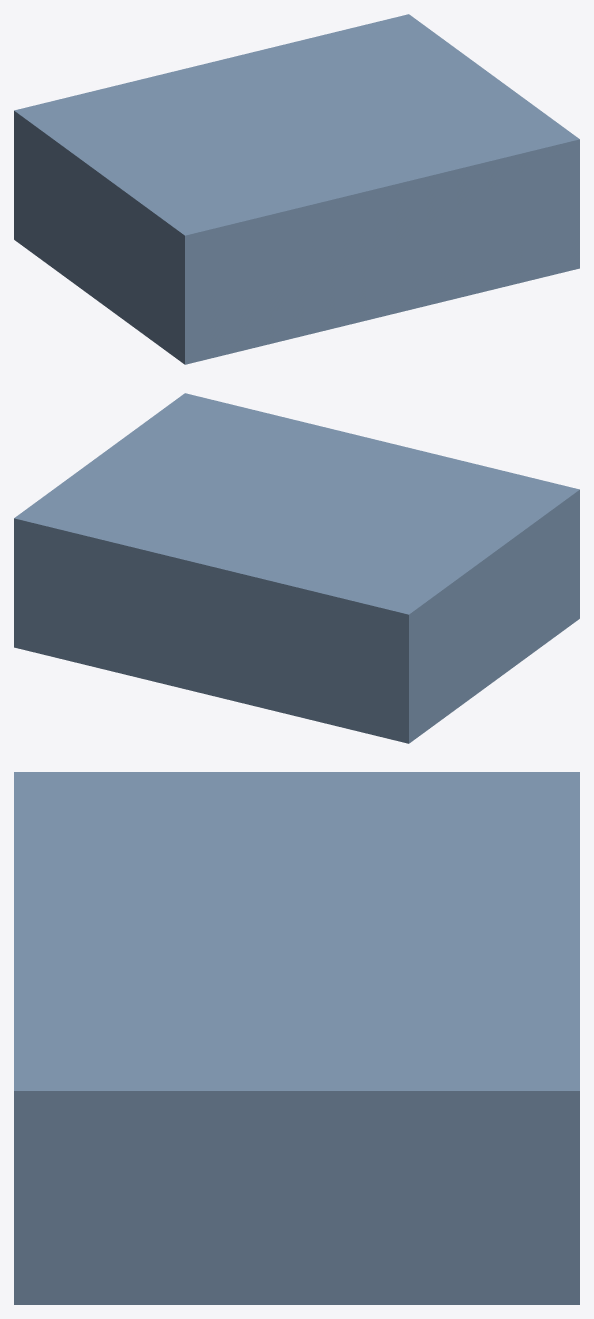
The model's file is control-unit.glb.
The picture shows the model from 3 angles, top to bottom: view 1: azimuth 30°, elevation 25°; view 2: azimuth 150°, elevation 25°; view 3: azimuth 270°, elevation 25°; orthographic projection. The views are drawn at different scales.
Parts seen in each view (by area): view 1: case:body; view 2: case:body; view 3: case:body.
Boxes of the visible parts, x1=… form: case:body: x1=14, y1=14, x2=579, y2=364; case:body: x1=14, y1=393, x2=579, y2=743; case:body: x1=14, y1=772, x2=579, y2=1304.
Size of the model in its own units: 0.16 by 0.05 by 0.12.
